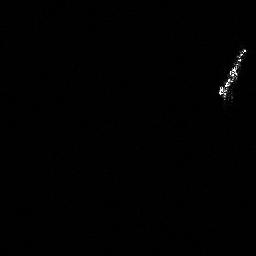ship: (215, 45, 250, 103)
